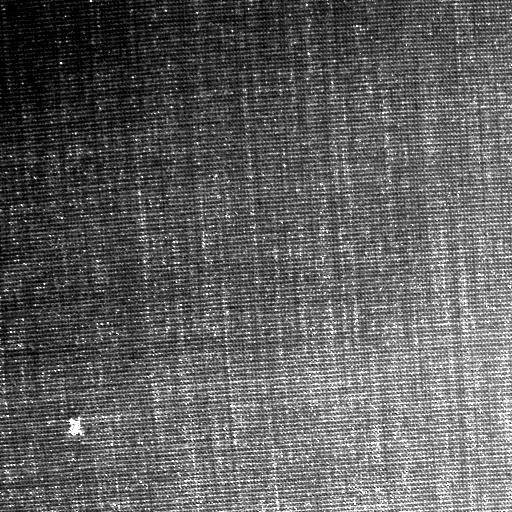fabric_hole: (62, 407, 102, 451)
